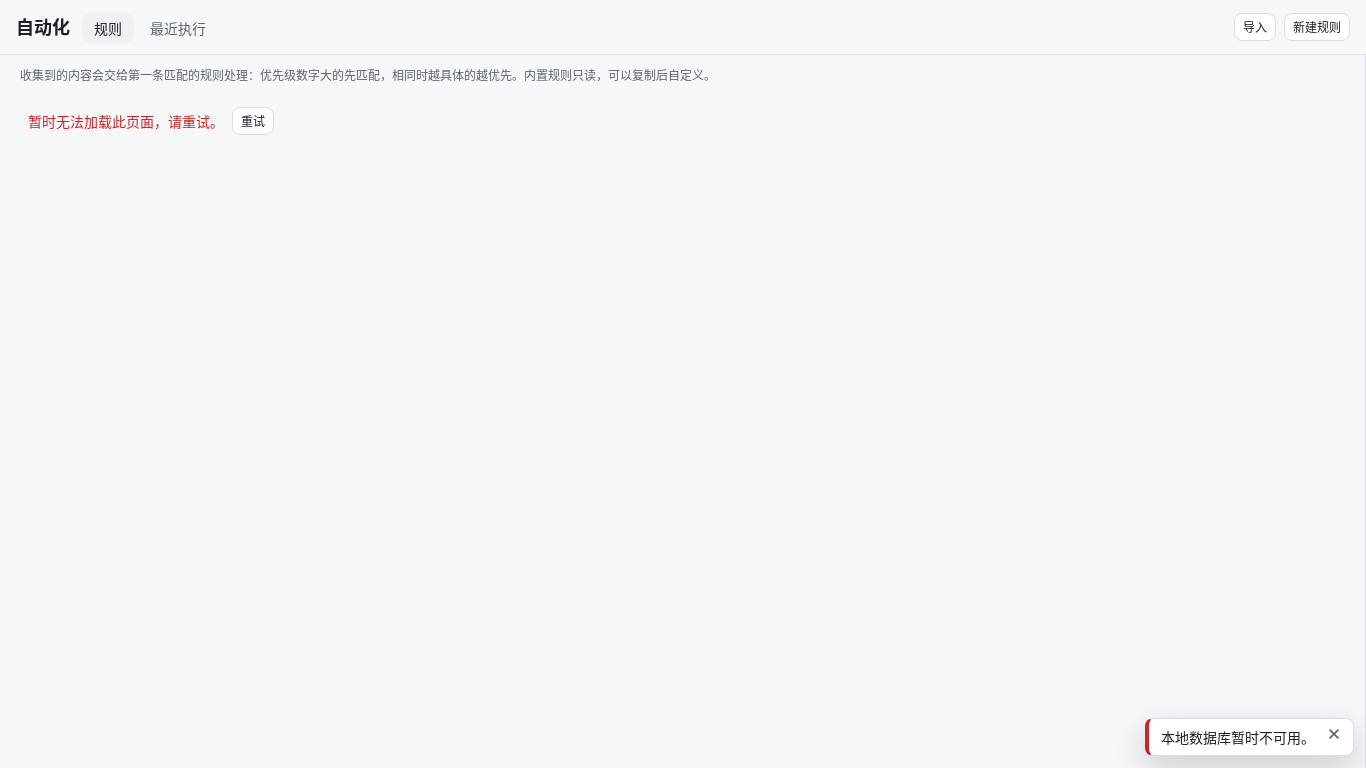
首次加载失败不宣称规则为空，重试后显示实际规则
Expected: the text "暂时无法加载此页面，请重试。" is shown, top-left (28, 111), bottom-right (224, 131)
Expected: the text "还没有。选一条内置规则，点「复制」就能开始自定义。" is not shown
Click the button "重试" at point(253, 121), box top-left (232, 107), bottom-right (274, 135)
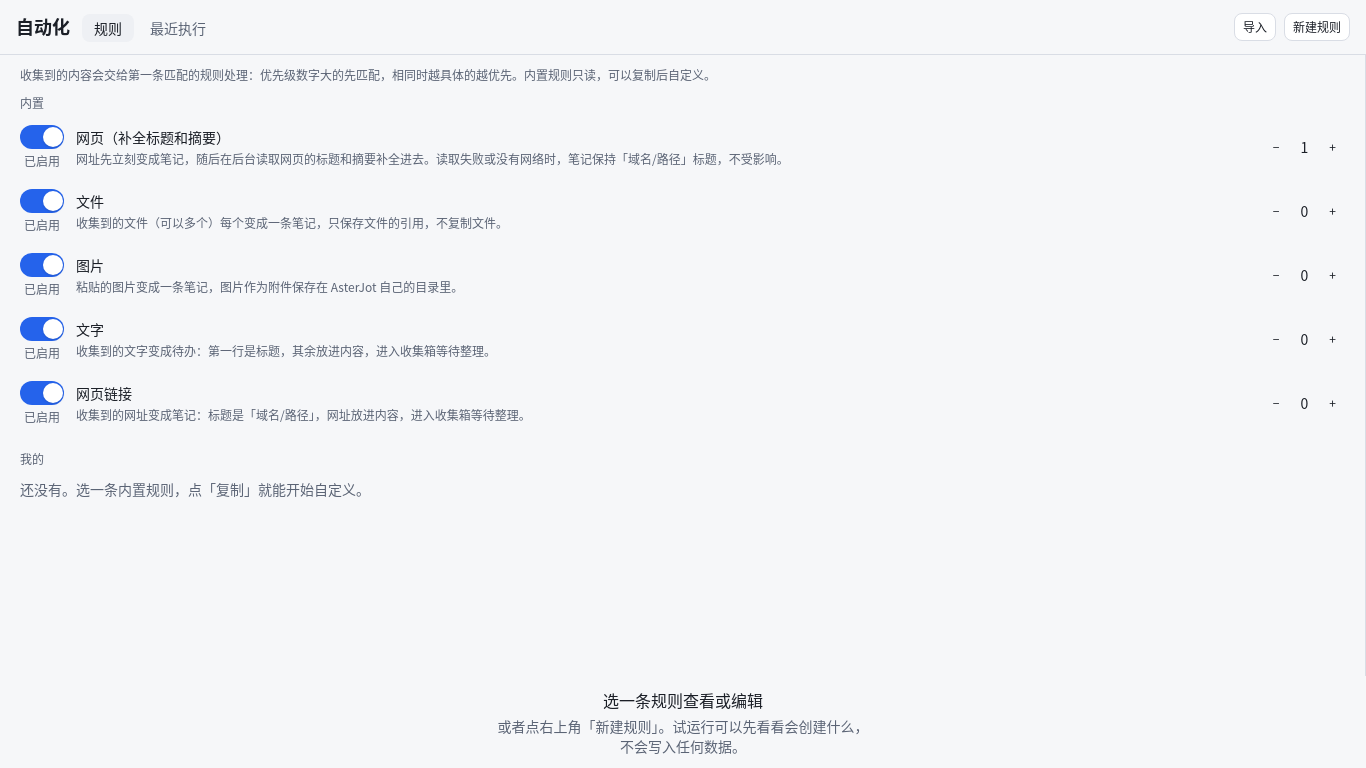
Now the text "选一条规则查看或编辑" is shown, box top-left (603, 688), bottom-right (763, 712)
Now the text "暂时无法加载此页面，请重试。" is gone
